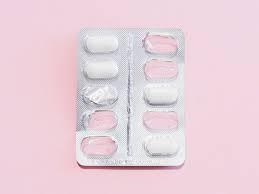pill_Strip: (78, 29, 183, 165), (77, 33, 127, 165), (131, 34, 181, 157), (80, 66, 124, 112), (143, 83, 178, 106), (81, 135, 117, 157), (81, 136, 117, 157), (81, 110, 117, 131), (83, 58, 118, 79), (143, 135, 178, 156), (144, 58, 177, 80), (81, 85, 117, 105), (143, 33, 177, 54), (143, 112, 177, 132), (143, 111, 177, 131), (127, 34, 132, 155), (85, 36, 118, 53)
